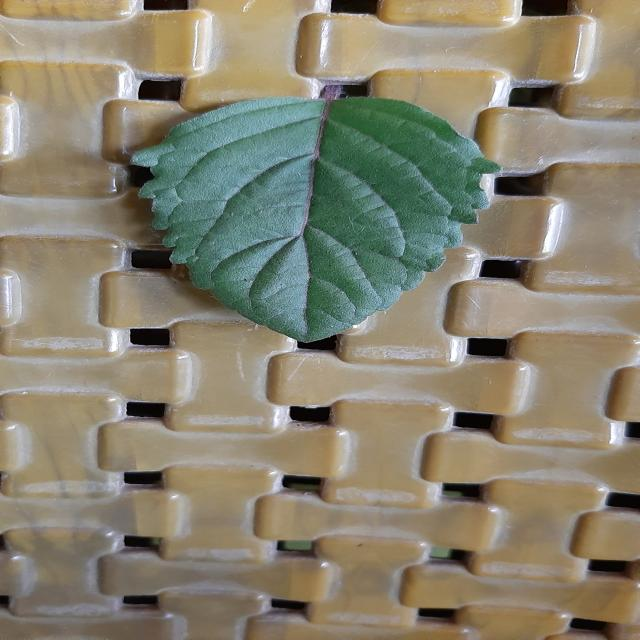tulsi: (133, 98, 499, 341)
